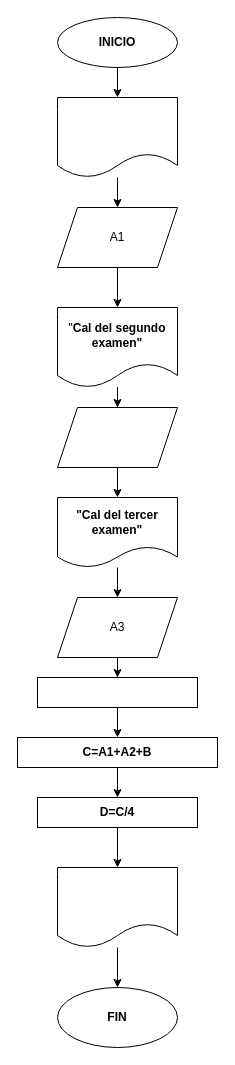
This 235x1065 diagram has some shape labels left out. The centre of each missing label's shape, as x and y in pixels:
" Cal del primer examen": (117,137)
" Promedio:"D: (117,907)
A2: (117,437)
B=AB*2: (117,692)
